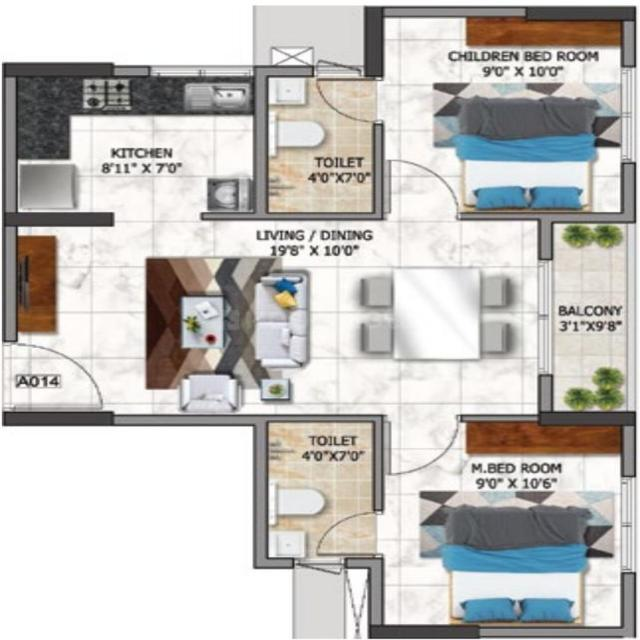Balcony-Sitout: (549, 221, 639, 412)
Bedroom with Toilet: (259, 417, 630, 629), (259, 14, 627, 215)
Dining: (353, 267, 519, 365)
Enterance-Foyer: (3, 336, 107, 418)
Kitchen: (11, 71, 253, 213)
Living: (20, 223, 312, 413)
Toilet: (267, 418, 378, 558), (268, 75, 370, 212)
